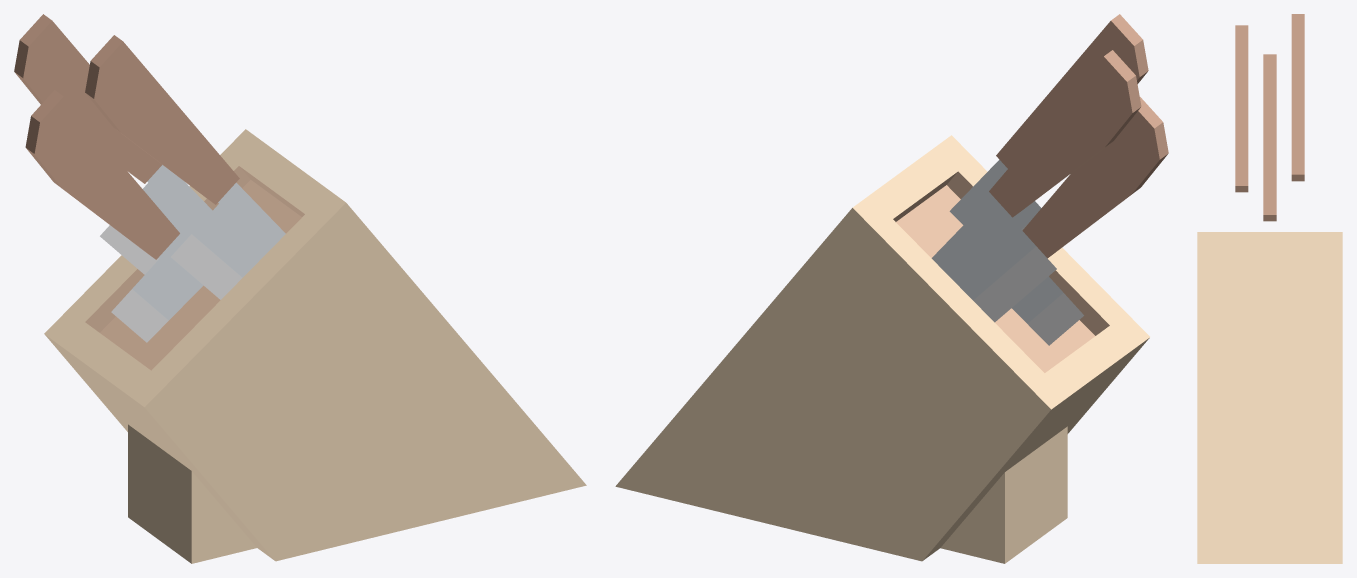
File: knifeBlock.glb
3 renders of one model, left to right at view 1: azimuth 30°, elevation 25°; view 2: azimuth 150°, elevation 25°; view 3: azimuth 270°, elevation 25°, orthographic. The views are drawn at different scales.
Parts seen in each view (by area): view 1: knifeBlock, cookingKnife.001, cookingKnife.002, cookingKnife.003; view 2: knifeBlock, cookingKnife.003, cookingKnife.002, cookingKnife.001; view 3: knifeBlock, cookingKnife.002, cookingKnife.001, cookingKnife.003.
Part boxes in pixels (x1=…): knifeBlock: x1=44, y1=129, x2=586, y2=563; cookingKnife.001: x1=85, y1=35, x2=285, y2=299; cookingKnife.002: x1=25, y1=90, x2=203, y2=342; cookingKnife.003: x1=14, y1=14, x2=212, y2=274; knifeBlock: x1=615, y1=135, x2=1149, y2=563; cookingKnife.003: x1=931, y1=50, x2=1141, y2=322; cookingKnife.002: x1=1012, y1=97, x2=1168, y2=345; cookingKnife.001: x1=949, y1=14, x2=1148, y2=230; knifeBlock: x1=1197, y1=232, x2=1342, y2=563; cookingKnife.002: x1=1263, y1=54, x2=1276, y2=221; cookingKnife.001: x1=1235, y1=25, x2=1248, y2=192; cookingKnife.003: x1=1291, y1=14, x2=1304, y2=181.
Bounding box in the file's own units: 0.6455 × 0.6472 × 0.2218.
